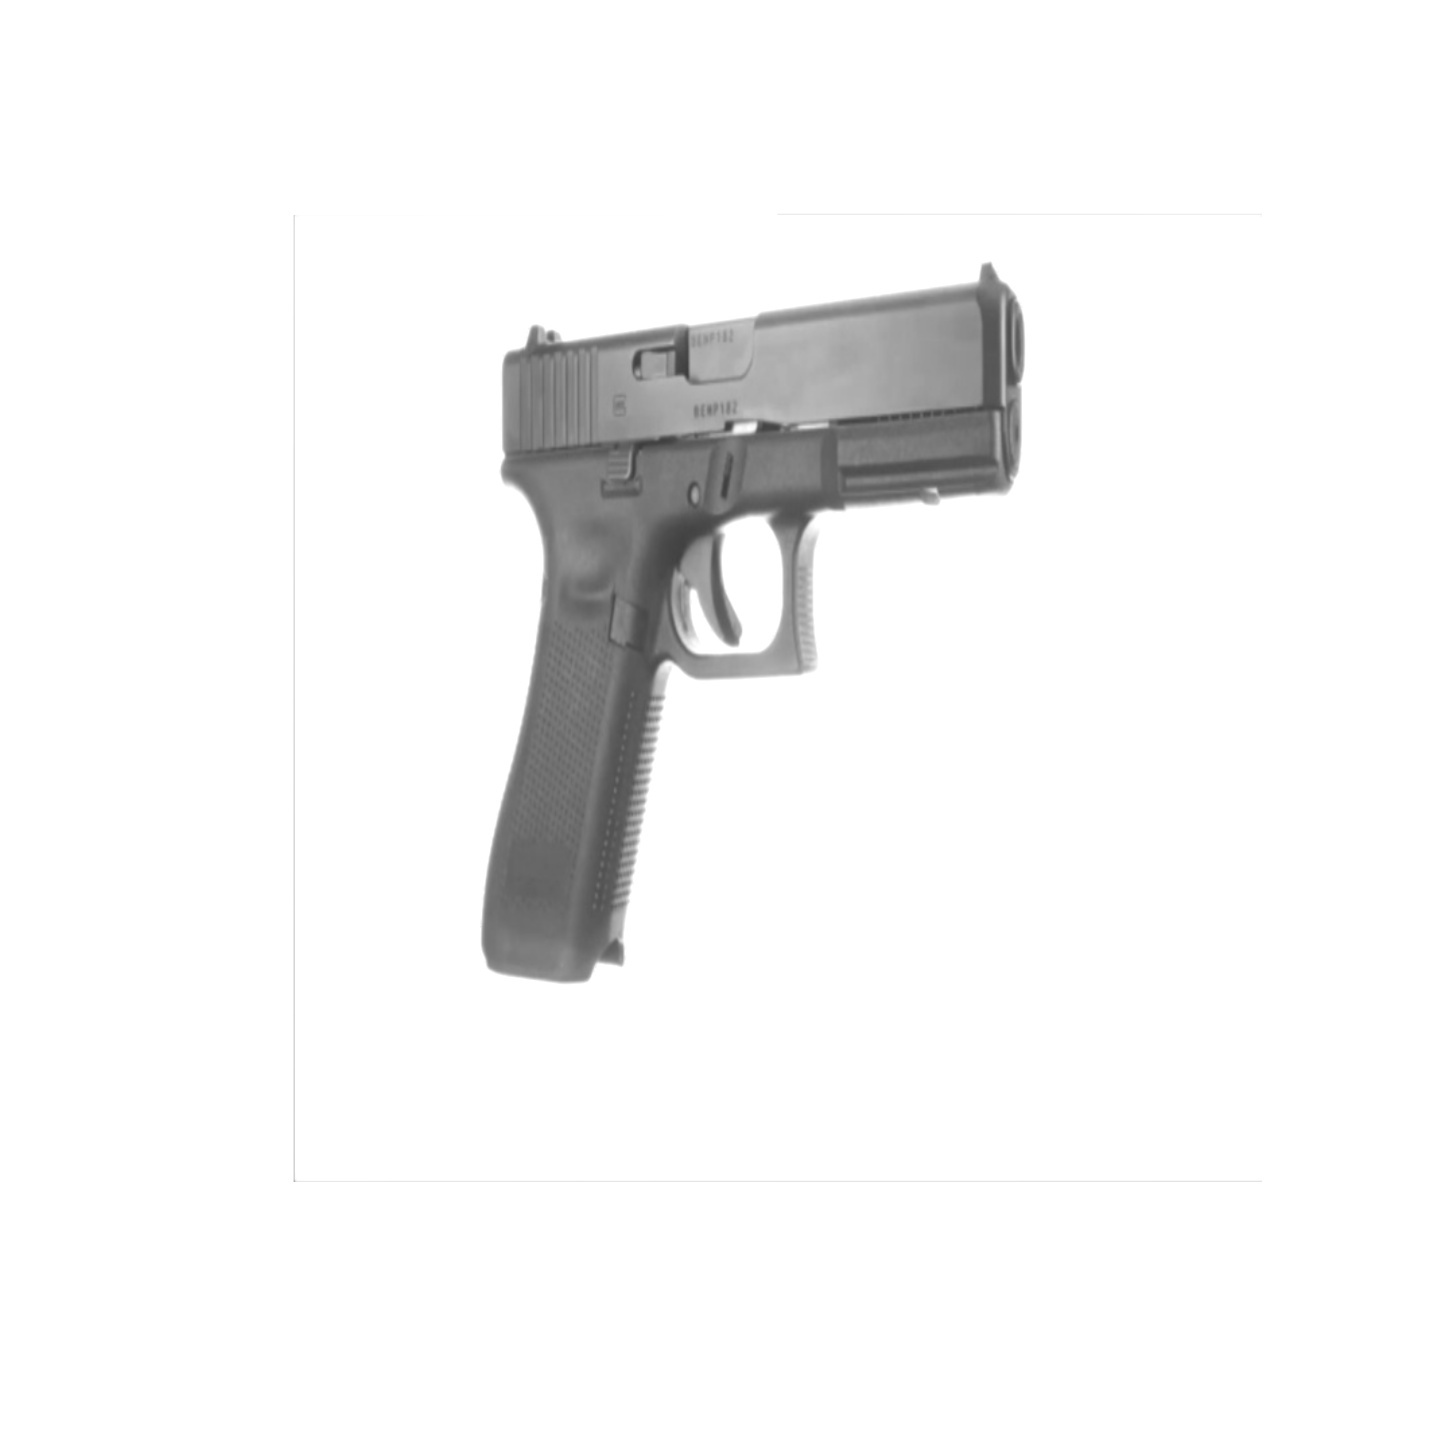gun: (481, 262, 1023, 985)
